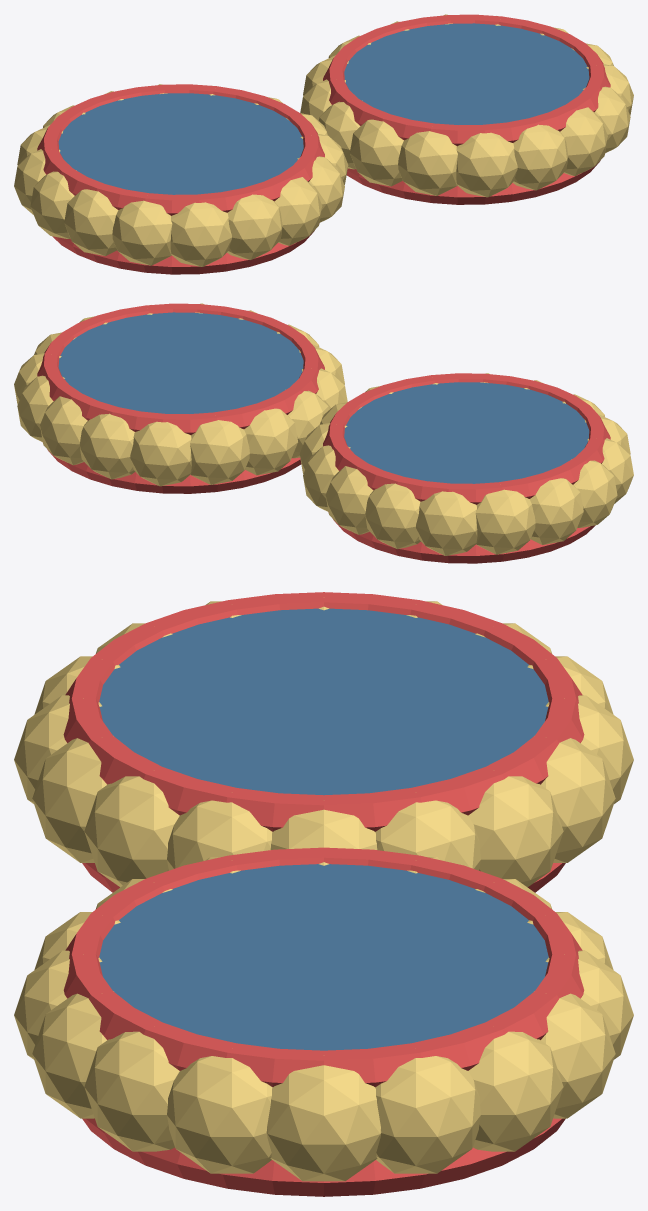
The model's file is costume_bell_anklet.glb.
3 renders of one model, top to bottom at view 1: azimuth 30°, elevation 25°; view 2: azimuth 150°, elevation 25°; view 3: azimuth 270°, elevation 25°, orthographic. The views are drawn at different scales.
Visible parts, largest first — view 1: Ritual leg strap lower clasp.001, Ritual leg strap lower clasp, Woven leg binding.001, Woven leg binding.003, Jingling suzu attached to anklet.027, Jingling suzu attached to anklet.011, Jingling suzu attached to anklet.010, Jingling suzu attached to anklet.026, Jingling suzu attached to anklet.028, Jingling suzu attached to anklet.012, Jingling suzu attached to anklet.025, Jingling suzu attached to anklet.009 (+14 smaller); view 2: Ritual leg strap lower clasp.001, Ritual leg strap lower clasp, Woven leg binding.001, Woven leg binding.003, Jingling suzu attached to anklet.021, Jingling suzu attached to anklet.005, Jingling suzu attached to anklet.006, Jingling suzu attached to anklet.022, Jingling suzu attached to anklet.020, Jingling suzu attached to anklet.004, Jingling suzu attached to anklet.023, Jingling suzu attached to anklet.007 (+14 smaller); view 3: Ritual leg strap lower clasp, Ritual leg strap lower clasp.001, Woven leg binding.003, Woven leg binding.001, Jingling suzu attached to anklet.016, Jingling suzu attached to anklet.017, Jingling suzu attached to anklet.031, Woven leg binding.002, Jingling suzu attached to anklet.018, Jingling suzu attached to anklet.030, Jingling suzu attached to anklet.002, Jingling suzu attached to anklet.014 (+15 smaller).
Boxes of the visible parts, <box> form: Ritual leg strap lower clasp.001: <box>344,23,589,124</box>; Ritual leg strap lower clasp: <box>58,93,303,194</box>; Woven leg binding.001: <box>37,84,324,215</box>; Woven leg binding.003: <box>323,14,610,145</box>; Jingling suzu attached to anklet.027: <box>456,132,517,197</box>; Jingling suzu attached to anklet.011: <box>170,202,231,266</box>; Jingling suzu attached to anklet.010: <box>112,200,172,265</box>; Jingling suzu attached to anklet.026: <box>398,131,457,195</box>; Jingling suzu attached to anklet.028: <box>512,124,568,190</box>; Jingling suzu attached to anklet.012: <box>227,194,282,259</box>; Jingling suzu attached to anklet.025: <box>350,119,403,186</box>; Jingling suzu attached to anklet.009: <box>64,189,118,255</box>; Ritual leg strap lower clasp.001: <box>58,312,303,413</box>; Ritual leg strap lower clasp: <box>344,382,589,483</box>; Woven leg binding.001: <box>323,373,610,504</box>; Woven leg binding.003: <box>37,303,324,434</box>; Jingling suzu attached to anklet.021: <box>130,421,191,486</box>; Jingling suzu attached to anklet.005: <box>416,491,477,555</box>; Jingling suzu attached to anklet.006: <box>475,489,535,554</box>; Jingling suzu attached to anklet.022: <box>190,420,249,484</box>; Jingling suzu attached to anklet.020: <box>79,413,135,479</box>; Jingling suzu attached to anklet.004: <box>365,483,420,548</box>; Jingling suzu attached to anklet.023: <box>244,408,297,475</box>; Jingling suzu attached to anklet.007: <box>529,478,583,544</box>; Ritual leg strap lower clasp: <box>99,608,548,795</box>; Ritual leg strap lower clasp.001: <box>99,864,548,1050</box>; Woven leg binding.003: <box>63,847,584,1087</box>; Woven leg binding.001: <box>63,592,584,831</box>; Jingling suzu attached to anklet.016: <box>266,1065,381,1181</box>; Jingling suzu attached to anklet.017: <box>375,1056,480,1173</box>; Jingling suzu attached to anklet.031: <box>167,1056,272,1173</box>; Woven leg binding.002: <box>82,1118,565,1196</box>; Jingling suzu attached to anklet.018: <box>468,1031,563,1151</box>; Jingling suzu attached to anklet.030: <box>84,1031,179,1151</box>; Jingling suzu attached to anklet.002: <box>468,776,563,887</box>; Jingling suzu attached to anklet.014: <box>84,776,179,887</box>.
Size of the model in its own units: 1.95 by 0.2406 by 0.9929.
